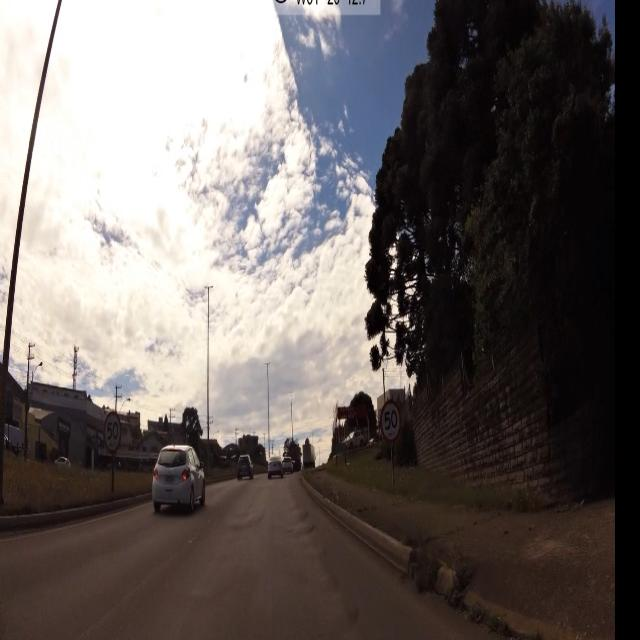R-19: (379, 399, 404, 448), (104, 411, 122, 455)
